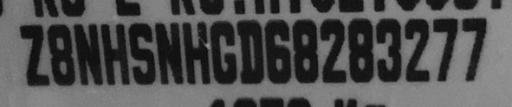letter: (44, 21, 78, 90), (96, 22, 132, 87), (16, 22, 52, 87), (232, 18, 266, 85), (152, 19, 186, 86), (71, 22, 105, 87), (179, 18, 211, 87), (317, 17, 349, 84), (430, 15, 460, 84), (345, 16, 375, 85), (459, 16, 489, 85), (262, 16, 292, 85), (402, 16, 432, 85), (208, 18, 238, 87), (374, 16, 404, 83), (290, 17, 320, 84), (126, 21, 156, 88)
